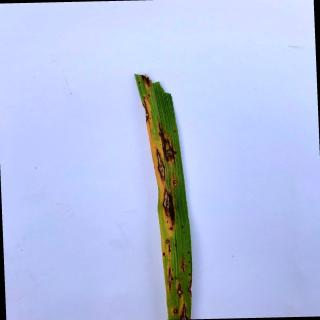Blast: (158, 123, 178, 162), (162, 188, 176, 225), (157, 148, 167, 181), (179, 301, 190, 320), (168, 267, 174, 293), (143, 101, 150, 122), (176, 283, 184, 300), (187, 279, 193, 299), (181, 261, 187, 273), (168, 243, 172, 254), (172, 307, 178, 314), (143, 94, 149, 100), (168, 226, 174, 232), (173, 179, 178, 185), (162, 251, 167, 257), (166, 238, 170, 244)
